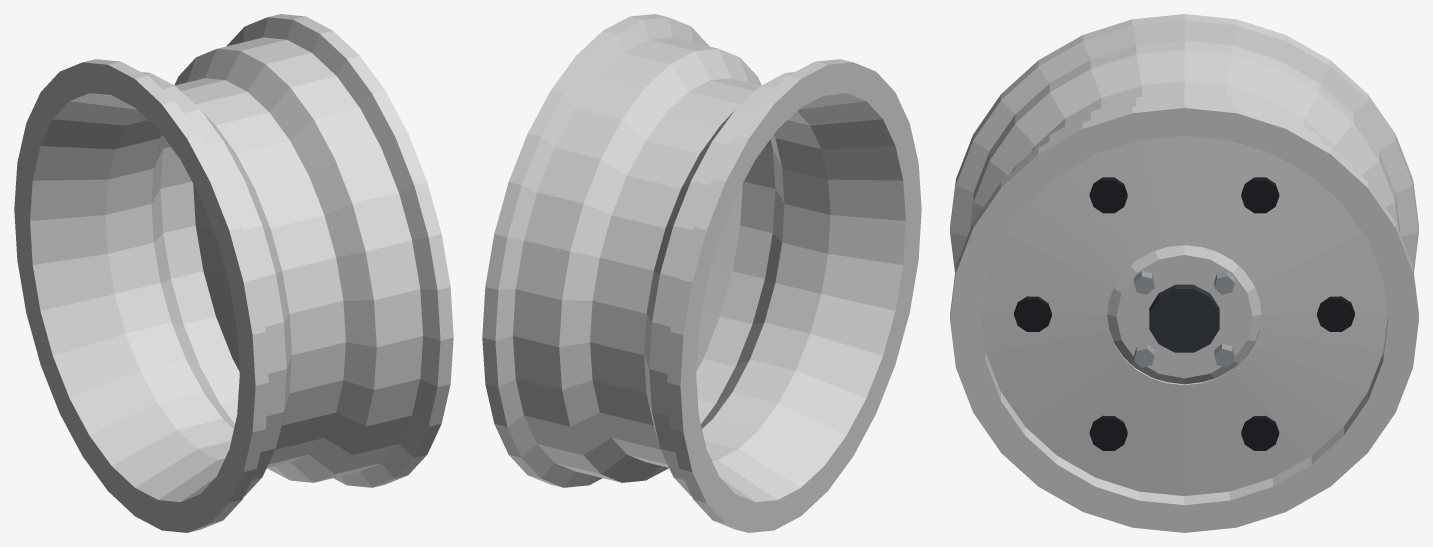
File: rim_rally.glb
3 renders of one model, left to right at view 1: azimuth 30°, elevation 25°; view 2: azimuth 150°, elevation 25°; view 3: azimuth 270°, elevation 25°, orthographic. The views are drawn at different scales.
Visible parts, largest first — view 1: model; view 2: model; view 3: model.
Part boxes in pixels (left/top/right/bottom): model: left=14, top=14, right=453, bottom=532; model: left=482, top=14, right=921, bottom=532; model: left=950, top=14, right=1418, bottom=532.
Size of the model in its own units: 0.1988 by 0.413 by 0.413.
Materials: 3 (1 with a texture image).
